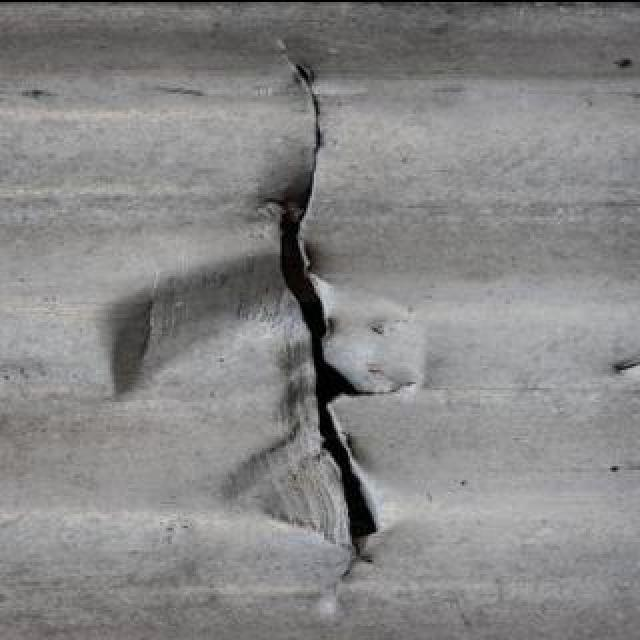crack: (261, 30, 419, 582)
dent: (93, 255, 281, 407)
